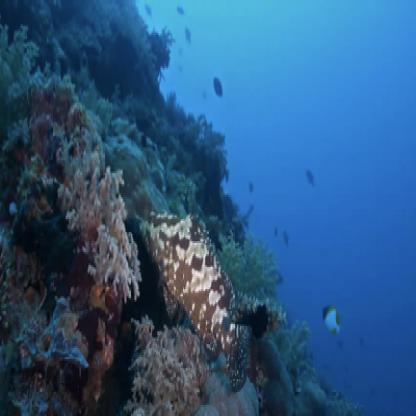Serranidae -Groupers-: (142, 200, 257, 397)
